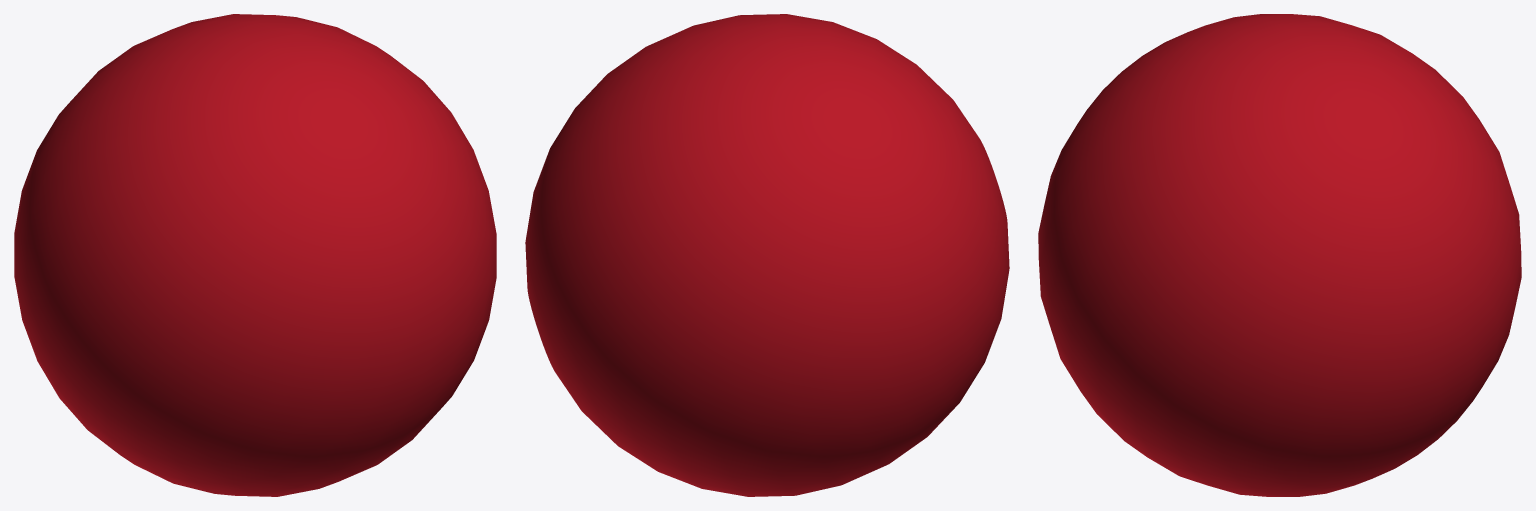
Rendered from 8Ball.fbx.
The picture shows the model from 3 angles, left to right: view 1: azimuth 30°, elevation 25°; view 2: azimuth 150°, elevation 25°; view 3: azimuth 270°, elevation 25°; orthographic projection.
Parts seen in each view (by area): view 1: Billiard Ball_8; view 2: Billiard Ball_8; view 3: Billiard Ball_8.
Boxes of the visible parts, x1,y1,x2,y2 form: Billiard Ball_8: (14,14,496,496); Billiard Ball_8: (525,14,1009,496); Billiard Ball_8: (1038,14,1521,496).
Size of the model in its own units: 7.64 by 7.62 by 7.62.
